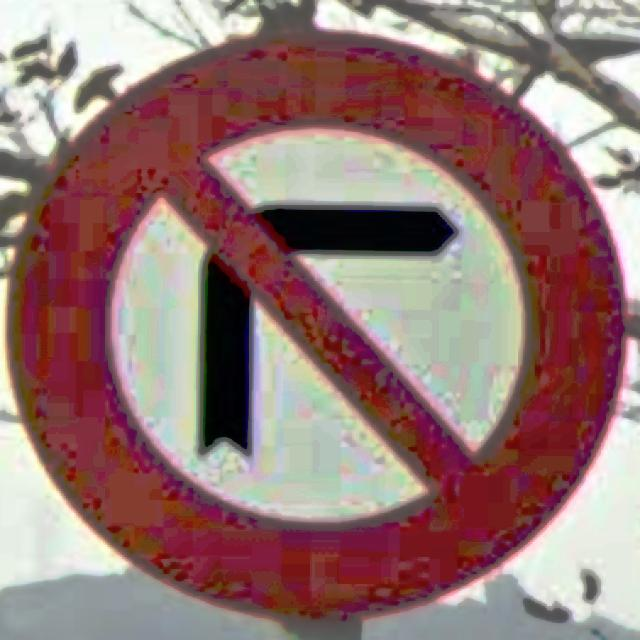noturnright: (7, 34, 630, 623)
